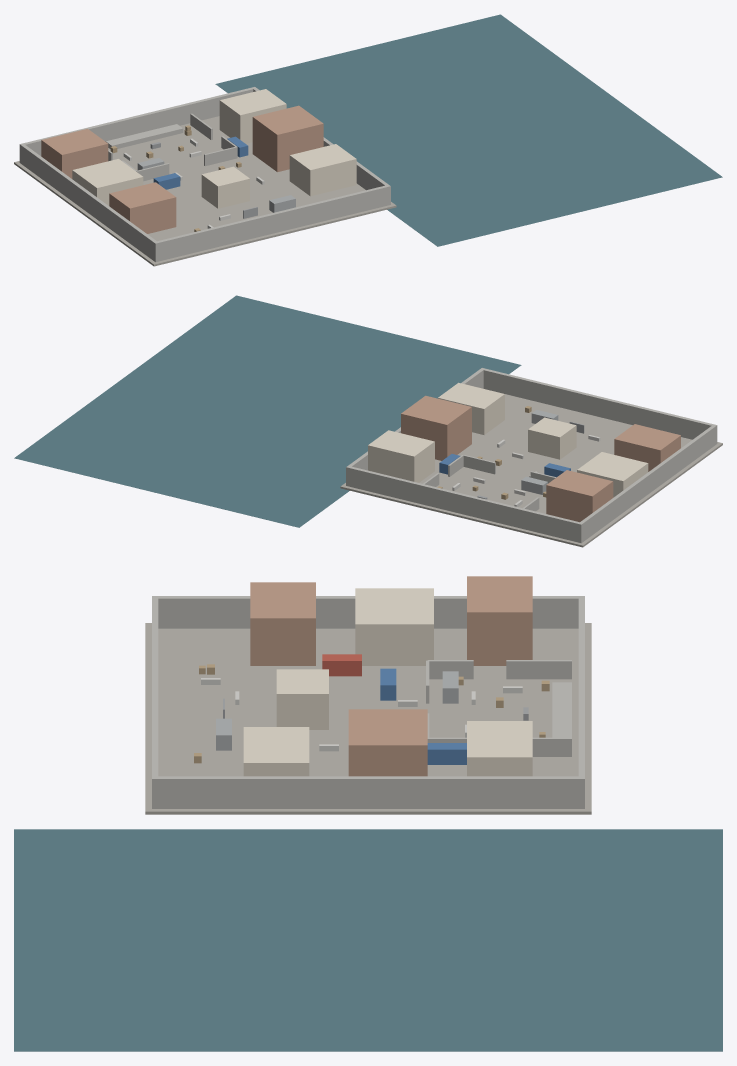
Rendered from render.glb.
3 renders of one model, top to bottom at view 1: azimuth 30°, elevation 25°; view 2: azimuth 150°, elevation 25°; view 3: azimuth 270°, elevation 25°, orthographic. The views are drawn at different scales.
Parts seen in each view (by area): view 1: water_sea, blk_concrete_00, ground_quay, bld_005_plaster, bld_004_brick, blk_containerGrey_28, blk_containerBlue_30; view 2: water_sea, blk_concrete_00, ground_quay, bld_005_plaster, bld_004_brick, blk_containerGrey_28, blk_containerBlue_30; view 3: water_sea, ground_quay, blk_concrete_00, bld_004_brick, bld_005_plaster, blk_containerBlue_30, blk_containerGrey_28, blk_containerRed_29, blk_barrier_19.
Part boxes in pixels (box(x1,y1,x2,y2)): water_sea: box(215, 14, 722, 246); blk_concrete_00: box(19, 87, 390, 262); ground_quay: box(14, 116, 396, 266); bld_005_plaster: box(72, 89, 356, 208); bld_004_brick: box(41, 105, 323, 233); blk_containerGrey_28: box(137, 158, 295, 212); blk_containerBlue_30: box(153, 136, 248, 189); water_sea: box(14, 295, 521, 527); blk_concrete_00: box(346, 368, 717, 543); ground_quay: box(340, 394, 722, 547); bld_005_plaster: box(368, 382, 648, 497); bld_004_brick: box(401, 395, 680, 522); blk_containerGrey_28: box(521, 410, 558, 494); blk_containerBlue_30: box(439, 454, 570, 477); water_sea: box(14, 829, 722, 1051); ground_quay: box(145, 623, 591, 814); blk_concrete_00: box(152, 596, 584, 808); bld_004_brick: box(250, 576, 532, 776); bld_005_plaster: box(243, 588, 532, 776); blk_containerBlue_30: box(380, 668, 466, 764); blk_containerGrey_28: box(216, 671, 458, 750); blk_containerRed_29: box(322, 654, 361, 676); blk_barrier_19: box(201, 678, 522, 751).
Bounding box in the file's own units: 148 × 13.01 × 108.
